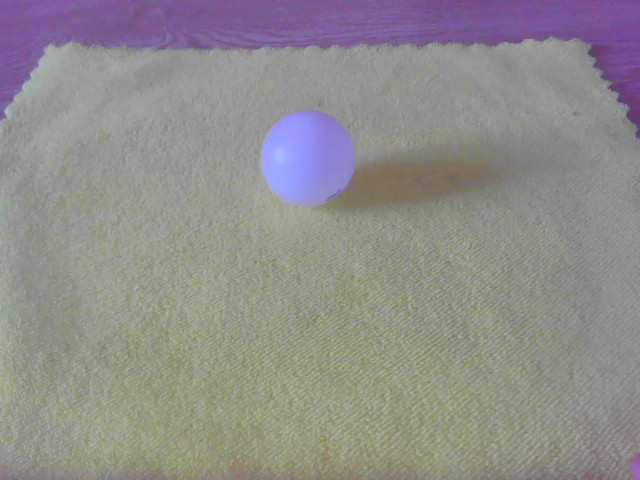ball: (261, 113, 358, 208)
